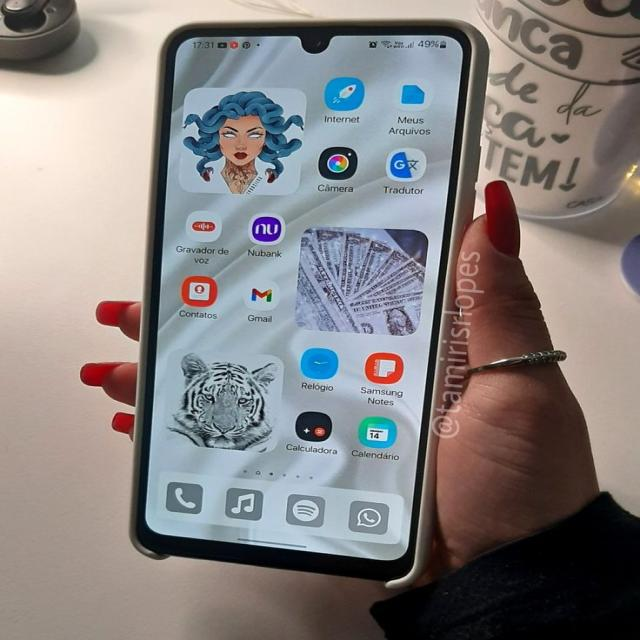phone: (97, 1, 509, 606)
